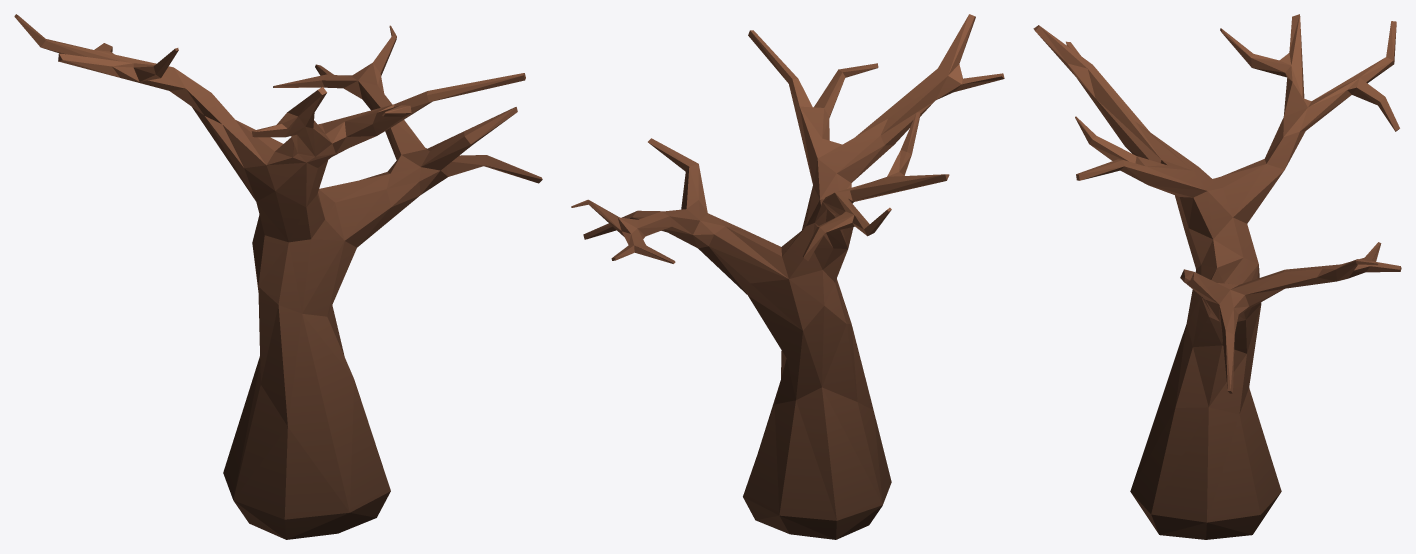
File: dry tree 2.fbx
The picture shows the model from 3 angles, left to right: view 1: azimuth 30°, elevation 25°; view 2: azimuth 150°, elevation 25°; view 3: azimuth 270°, elevation 25°; orthographic projection. The views are drawn at different scales.
Parts seen in each view (by area): view 1: dry tree 2; view 2: dry tree 2; view 3: dry tree 2.
Part boxes in pixels (left/top/right/bottom): dry tree 2: left=14, top=14, right=542, bottom=539; dry tree 2: left=571, top=14, right=1004, bottom=539; dry tree 2: left=1033, top=14, right=1401, bottom=539.
Size of the model in its own units: 715 by 781 by 571.
